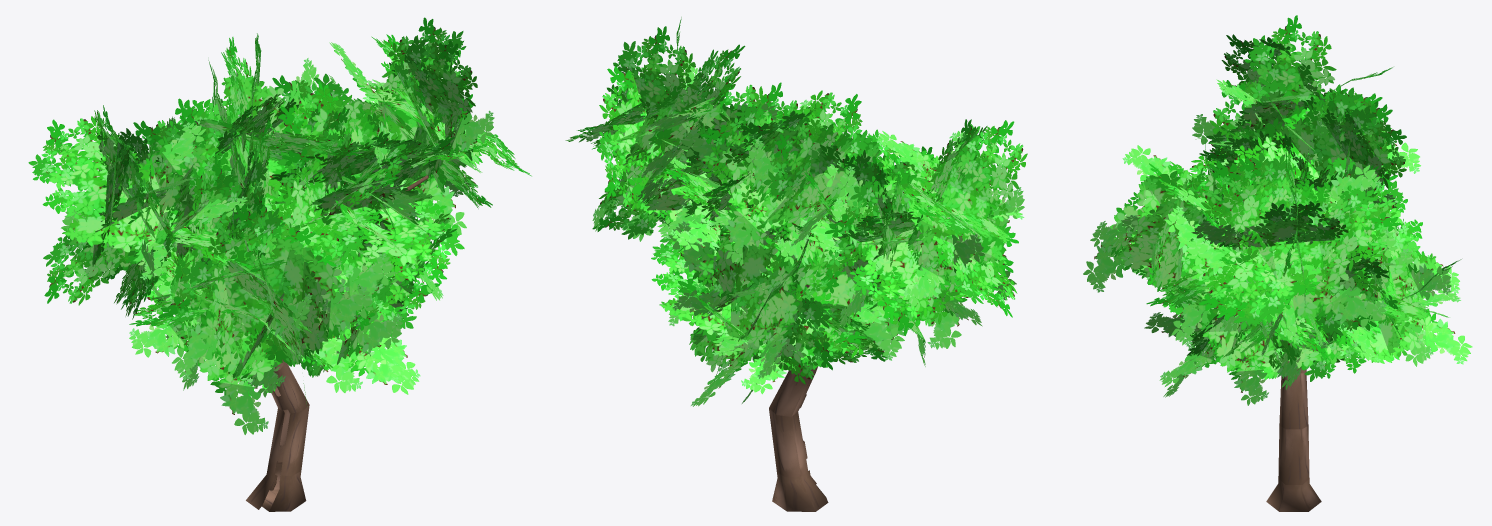
Rendered from tree.fbx.
3 renders of one model, left to right at view 1: azimuth 30°, elevation 25°; view 2: azimuth 150°, elevation 25°; view 3: azimuth 270°, elevation 25°, orthographic. The views are drawn at different scales.
Visible parts, largest first — view 1: Tree; view 2: Tree; view 3: Tree.
Boxes of the visible parts, x1=… form: Tree: x1=28, y1=17, x2=531, y2=511; Tree: x1=565, y1=17, x2=1027, y2=511; Tree: x1=1083, y1=15, x2=1472, y2=511.
Bounding box in the file's own units: 2052 × 1928 × 1680.
Materials: 2 (2 with a texture image).
